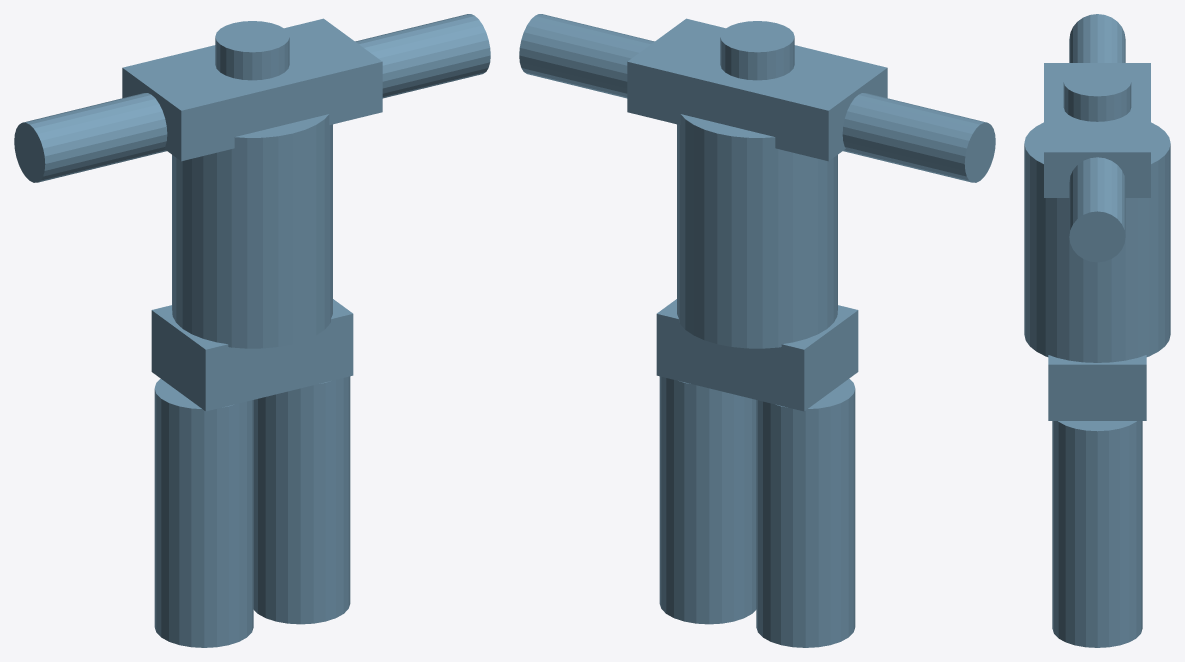
File: body_base.glb
The picture shows the model from 3 angles, left to right: view 1: azimuth 30°, elevation 25°; view 2: azimuth 150°, elevation 25°; view 3: azimuth 270°, elevation 25°; orthographic projection. The views are drawn at different scales.
Parts seen in each view (by area): view 1: world; view 2: world; view 3: world.
Part boxes in pixels (x1,y1,x2,y2): world: [14, 14, 490, 647]; world: [519, 14, 995, 647]; world: [1024, 14, 1170, 647].
Size of the model in its own units: 1.66 by 2.06 by 0.52.
